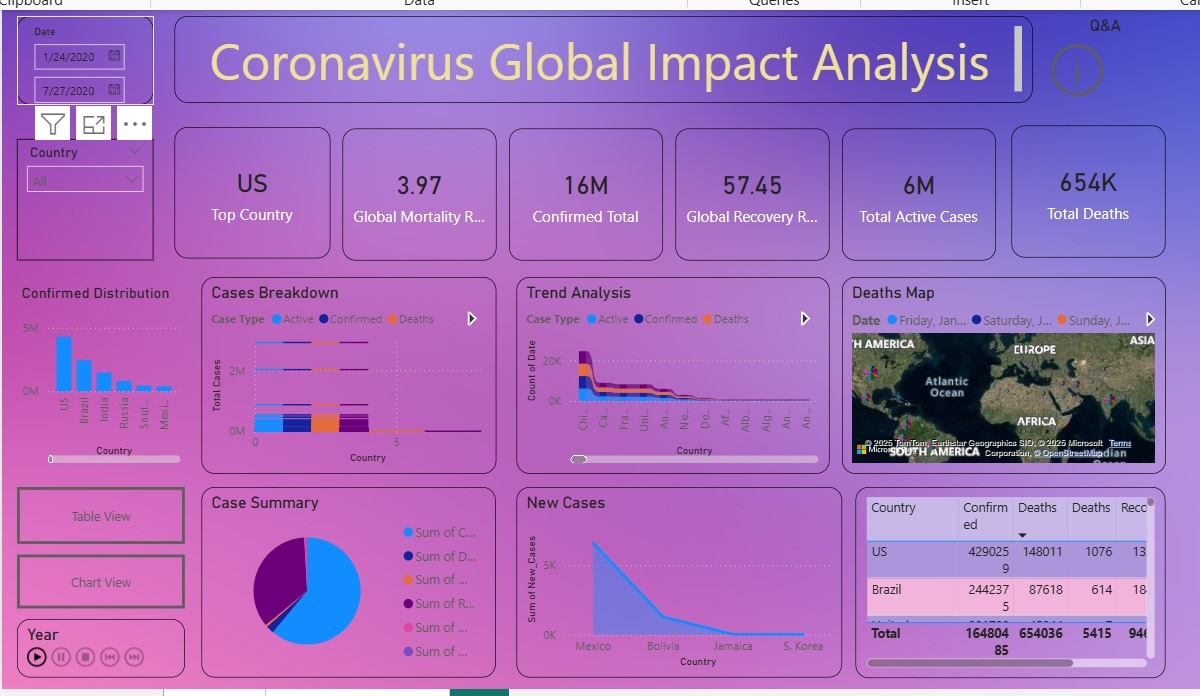

The page's visual inventory and layout, read from the dashboard file:
{"tool":"powerbi","page":{"name":"Main","canvas":[1280,720],"ordinal":0},"visuals":[{"type":"card","fields":{"Values":["Covidcleandata.Total Active Cases"]},"box":[891.3,124.9,163.3,140.2],"z":0},{"type":"card","fields":{"Values":["Covidcleandata.Global Mortality Rate (%)"]},"box":[361.1,124.9,163.3,140.2],"z":1000},{"type":"card","fields":{"Values":["Covidcleandata.Total Confirmed Cases"]},"box":[537.9,124.9,163.3,140.2],"z":2000},{"type":"card","fields":{"Values":["Covidcleandata.Global Recovery Rate (%)"]},"box":[714.6,124.9,163.3,140.2],"z":3000},{"type":"card","fields":{"Values":["Covidcleandata.Country with Highest Cases"]},"box":[183,124.7,165.2,139.3],"z":4000},{"type":"card","fields":{"Values":["Covidcleandata.Total Deaths"]},"box":[1070,122.9,163.3,140.2],"z":5000},{"type":"PBI_CV_16948668_E17D_454B_8664_2F2C470EA8C1","fields":{"category":["daywise.Date.Variation.Date Hierarchy.Year","daywise.Date.Variation.Date Hierarchy.Quarter","daywise.Date.Variation.Date Hierarchy.Month","daywise.Date.Variation.Date Hierarchy.Day"]},"box":[15.9,645.8,178.1,62],"z":6000},{"type":"slicer","fields":{"Values":["countrylatest.Country"]},"box":[15.9,136.8,144.7,128.8],"z":7000},{"type":"map","title":"Deaths Map","fields":{"Category":["countrylatest.Country"],"Series":["Covidcleandata.Date"],"Size":["Sum(countrylatest.New deaths)"]},"box":[890.6,283.4,343.3,208.9],"z":8000},{"type":"ribbonChart","title":"Trend Analysis","fields":{"Category":["Covidcleandata.Country"],"Series":["daywise.Case Type"],"Y":["CountNonNull(Covidcleandata.Date)"]},"box":[545.7,283.4,331.9,208.9],"z":9000},{"type":"barChart","title":"Cases Breakdown","fields":{"Category":["World COVID Data (Worldometer).Total_Cases"],"Y":["CountNonNull(World COVID Data (Worldometer).Country)"],"Series":["daywise.Case Type"]},"box":[212.1,283.4,312.5,208.9],"z":10000},{"type":"areaChart","title":"New Cases","fields":{"Category":["World COVID Data (Worldometer).Country"],"Y":["Sum(World COVID Data (Worldometer).New_Cases)"]},"box":[545.6,505.8,345.2,202],"z":11000},{"type":"pieChart","title":"Case Summary","fields":{"Y":["Sum(countrylatest.Confirmed)","Sum(countrylatest.Deaths)","Sum(countrylatest.New recovered)","Sum(countrylatest.Recovered)","Sum(countrylatest.New cases)","Sum(countrylatest.New deaths)"]},"box":[211.6,505.8,311.8,202],"z":12000},{"type":"slicer","fields":{"Values":["daywise.Date"]},"box":[15.9,6.4,144.7,93.8],"z":13000},{"type":"tableEx","fields":{"Values":["countrylatest.Country","Sum(countrylatest.Confirmed)","Sum(countrylatest.Deaths)","Sum(countrylatest.New deaths)","Sum(countrylatest.Recovered)","Sum(countrylatest.Active)"]},"box":[905.1,505.2,328.7,202.4],"z":14000},{"type":"textbox","box":[182.9,6.4,909.8,92.3],"z":15000},{"type":"actionButton","title":"Q&A","box":[1105.5,6.4,128.8,92.3],"z":16000},{"type":"clusteredColumnChart","title":"Confirmed Distribution","fields":{"Category":["countrylatest.Country"],"Y":["Sum(countrylatest.Confirmed)"]},"box":[15.9,291.1,178.1,194.1],"z":17000},{"type":"actionButton","box":[15.9,505.8,178.1,60.4],"z":20000},{"type":"actionButton","box":[15.9,577.4,178.1,57.3],"z":21000}]}

Visuals, with their boxes on the page's 1280x720 design canvas (x1, y1, x2, y2). These are canvas units, not pixel positions in the 1200x696 screenshot, which may show the page scaled, cropped or inside an application window:
card - Covidcleandata.Total Active Cases: locate(891, 125, 1055, 265)
card - Covidcleandata.Global Mortality Rate (%): locate(361, 125, 524, 265)
card - Covidcleandata.Total Confirmed Cases: locate(538, 125, 701, 265)
card - Covidcleandata.Global Recovery Rate (%): locate(715, 125, 878, 265)
card - Covidcleandata.Country with Highest Cases: locate(183, 125, 348, 264)
card - Covidcleandata.Total Deaths: locate(1070, 123, 1233, 263)
PBI_CV_16948668_E17D_454B_8664_2F2C470EA8C1 - daywise.Date.Variation.Date Hierarchy.Year x daywise.Date.Variation.Date Hierarchy.Quarter: locate(16, 646, 194, 708)
slicer - countrylatest.Country: locate(16, 137, 161, 266)
"Deaths Map" map: locate(891, 283, 1234, 492)
"Trend Analysis" ribbonChart: locate(546, 283, 878, 492)
"Cases Breakdown" barChart: locate(212, 283, 525, 492)
"New Cases" areaChart: locate(546, 506, 891, 708)
"Case Summary" pieChart: locate(212, 506, 523, 708)
slicer - daywise.Date: locate(16, 6, 161, 100)
tableEx - countrylatest.Country x Sum(countrylatest.Confirmed): locate(905, 505, 1234, 708)
textbox: locate(183, 6, 1093, 99)
"Q&A" actionButton: locate(1106, 6, 1234, 99)
"Confirmed Distribution" clusteredColumnChart: locate(16, 291, 194, 485)
actionButton: locate(16, 506, 194, 566)
actionButton: locate(16, 577, 194, 635)
